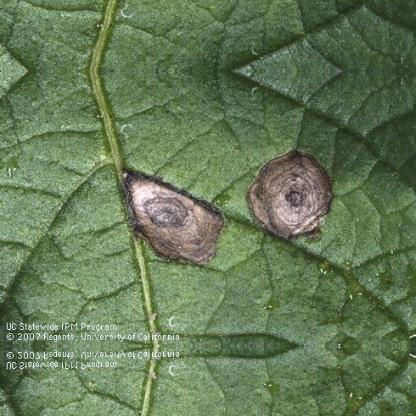Early-Blight: (93, 132, 231, 302), (236, 129, 356, 275)
